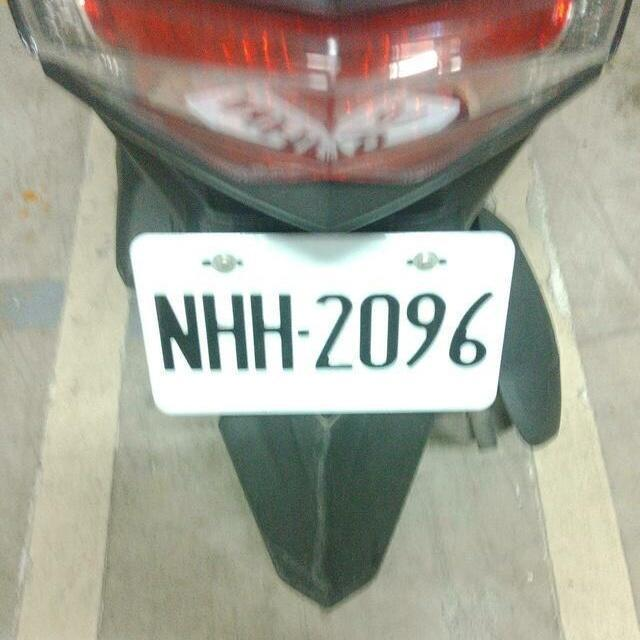W: (120, 202, 518, 436)
